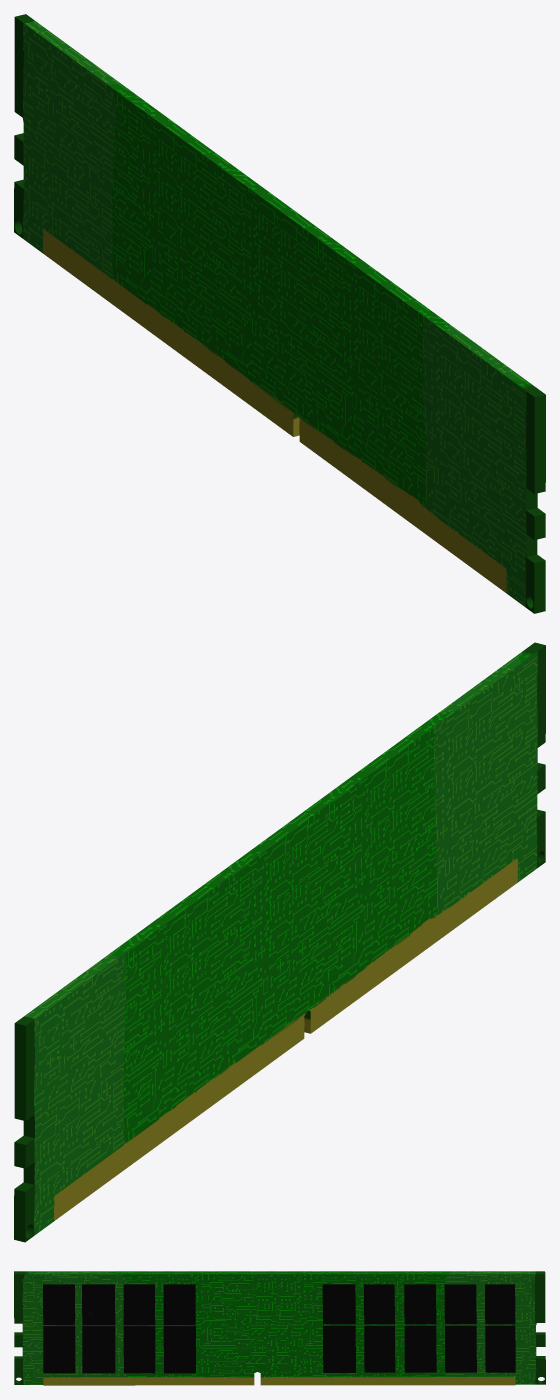
The model's file is RamMemory.fbx.
3 renders of one model, top to bottom at view 1: azimuth 30°, elevation 25°; view 2: azimuth 150°, elevation 25°; view 3: azimuth 270°, elevation 25°, orthographic. The views are drawn at different scales.
Parts seen in each view (by area): view 1: Cube; view 2: Cube; view 3: Cube.
Part boxes in pixels (left/top/right/bottom): Cube: left=14, top=14, right=545, bottom=613; Cube: left=14, top=642, right=545, bottom=1242; Cube: left=14, top=1271, right=545, bottom=1385.
Bounding box in the file's own units: 25.45 × 331 × 1442.
1 material, 1 textured.
